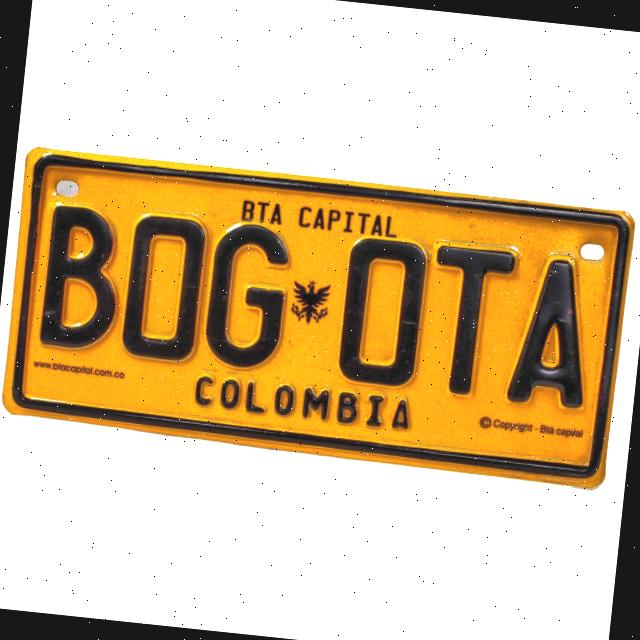plate: (5, 150, 628, 478)
